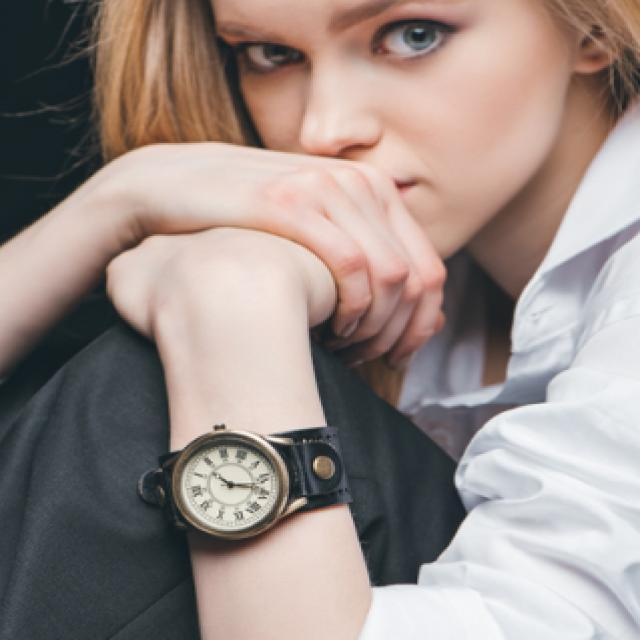Watch: (134, 417, 350, 543)
